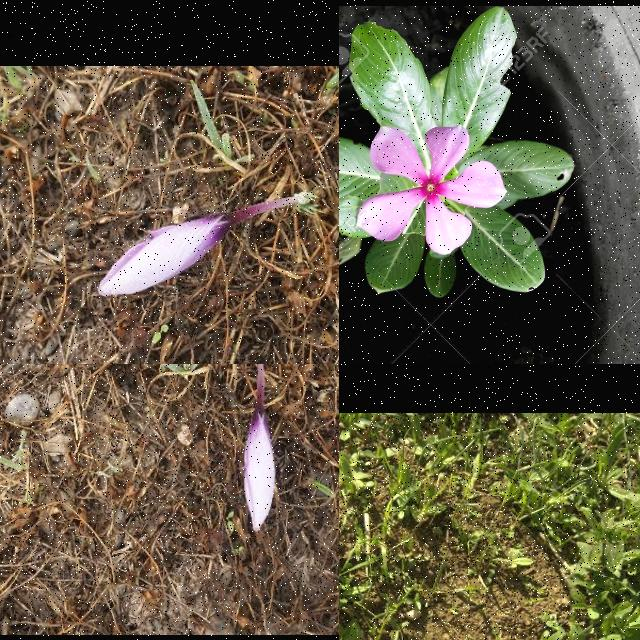flower: (99, 212, 238, 298), (244, 398, 276, 532)
